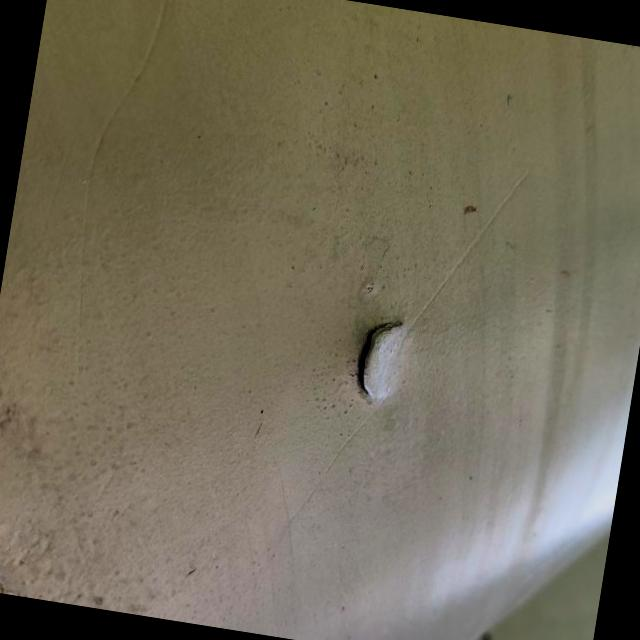crack: (332, 294, 445, 426)
